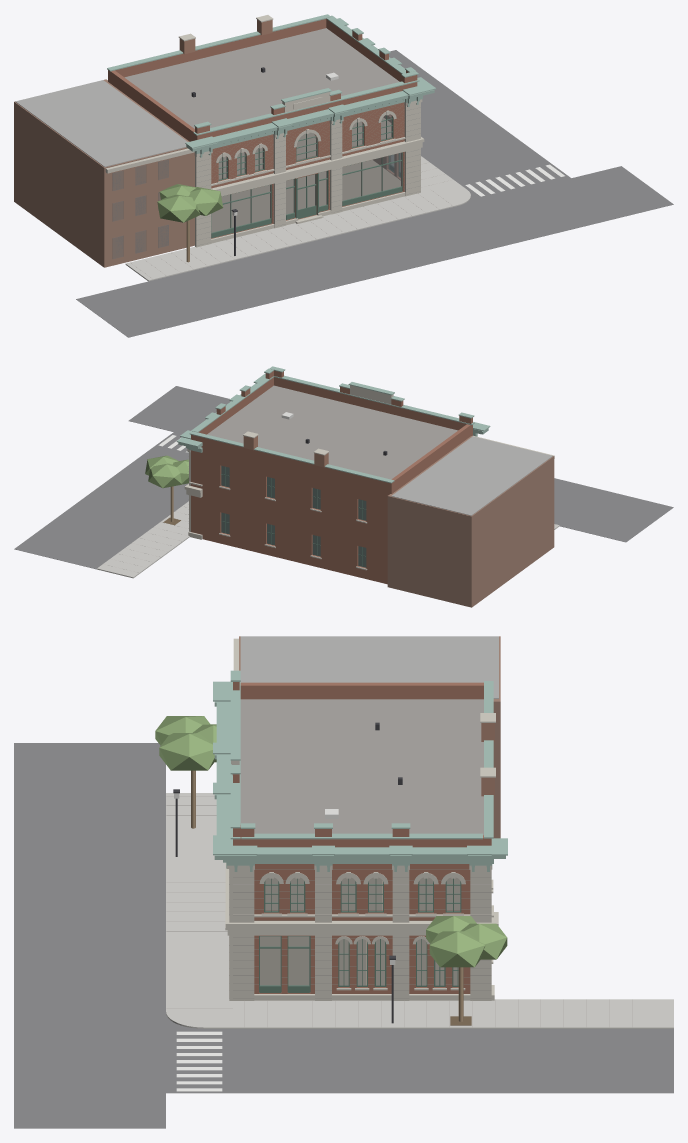
File: clay-halifax-waterfront-warehouse-clay-v003.glb
3 renders of one model, top to bottom at view 1: azimuth 30°, elevation 25°; view 2: azimuth 150°, elevation 25°; view 3: azimuth 270°, elevation 25°, orthographic. The views are drawn at different scales.
Visible parts, largest first — view 1: CLAY_ASPHALT, CLAY_NEIGHBOUR, CLAY_ROOF, CLAY_WALL, CLAY_STONE, CLAY_CONCRETE, CLAY_GLASS, CLAY_MEMBRANE, CLAY_COPPER, CLAY_FLOOR, CLAY_FRAME, CLAY_PLANTING (+3 smaller); view 2: CLAY_WALL, CLAY_ASPHALT, CLAY_NEIGHBOUR, CLAY_ROOF, CLAY_MEMBRANE, CLAY_COPPER, CLAY_CONCRETE, CLAY_FRAME, CLAY_GLASS, CLAY_STONE, CLAY_PLANTING; view 3: CLAY_ASPHALT, CLAY_ROOF, CLAY_CONCRETE, CLAY_WALL, CLAY_STONE, CLAY_COPPER, CLAY_MEMBRANE, CLAY_FLOOR, CLAY_GLASS, CLAY_PLANTING, CLAY_FRAME, CLAY_JOINT (+3 smaller).
Boxes of the visible parts, x1=… form: CLAY_ASPHALT: x1=76, y1=50, x2=673, y2=337; CLAY_NEIGHBOUR: x1=14, y1=79, x2=194, y2=267; CLAY_ROOF: x1=124, y1=28, x2=399, y2=128; CLAY_WALL: x1=108, y1=19, x2=417, y2=238; CLAY_STONE: x1=105, y1=15, x2=424, y2=247; CLAY_CONCRETE: x1=125, y1=155, x2=470, y2=281; CLAY_GLASS: x1=112, y1=114, x2=401, y2=258; CLAY_MEMBRANE: x1=15, y1=80, x2=187, y2=166; CLAY_COPPER: x1=107, y1=14, x2=436, y2=157; CLAY_FLOOR: x1=211, y1=117, x2=400, y2=232; CLAY_FRAME: x1=211, y1=115, x2=402, y2=237; CLAY_PLANTING: x1=157, y1=184, x2=223, y2=222; CLAY_WALL: x1=191, y1=370, x2=472, y2=584; CLAY_ASPHALT: x1=14, y1=386, x2=673, y2=569; CLAY_NEIGHBOUR: x1=387, y1=436, x2=554, y2=607; CLAY_ROOF: x1=207, y1=385, x2=457, y2=479; CLAY_MEMBRANE: x1=391, y1=436, x2=552, y2=515; CLAY_COPPER: x1=176, y1=366, x2=490, y2=483; CLAY_CONCRETE: x1=97, y1=501, x2=559, y2=578; CLAY_FRAME: x1=221, y1=466, x2=366, y2=567; CLAY_GLASS: x1=221, y1=466, x2=366, y2=567; CLAY_STONE: x1=184, y1=385, x2=554, y2=570; CLAY_PLANTING: x1=145, y1=455, x2=188, y2=488; CLAY_ASPHALT: x1=14, y1=743, x2=673, y2=1128; CLAY_ROOF: x1=240, y1=699, x2=483, y2=835; CLAY_CONCRETE: x1=166, y1=793, x2=673, y2=1028; CLAY_WALL: x1=233, y1=682, x2=491, y2=993; CLAY_STONE: x1=225, y1=638, x2=498, y2=1000; CLAY_COPPER: x1=213, y1=670, x2=507, y2=871; CLAY_MEMBRANE: x1=240, y1=636, x2=498, y2=698; CLAY_FLOOR: x1=260, y1=877, x2=460, y2=985; CLAY_GLASS: x1=260, y1=877, x2=460, y2=985; CLAY_PLANTING: x1=155, y1=716, x2=507, y2=967; CLAY_FRAME: x1=259, y1=878, x2=461, y2=992; CLAY_JOINT: x1=166, y1=796, x2=632, y2=1026.
Size of the model in its own units: 60 by 13.3 by 43.4.
